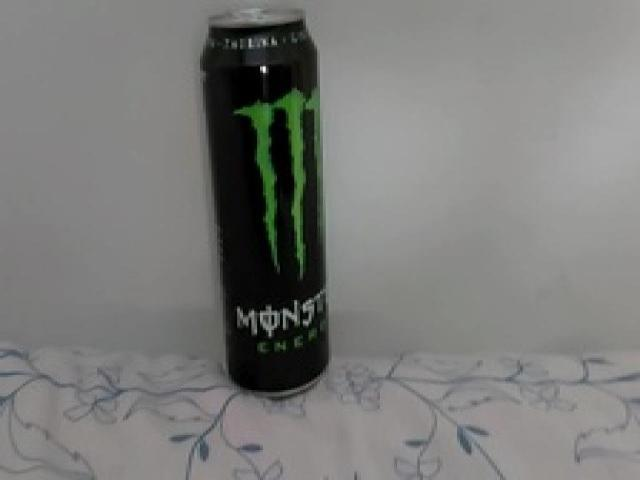Canned_drinks: (198, 10, 331, 403)
